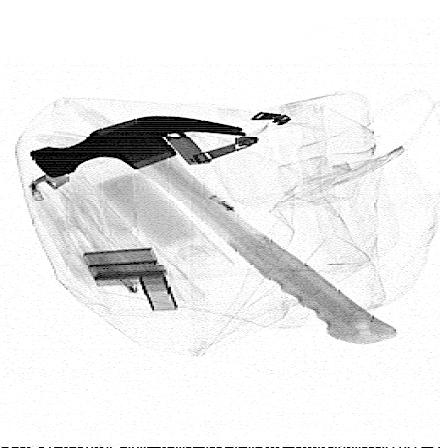Hammer: (27, 115, 396, 344)
